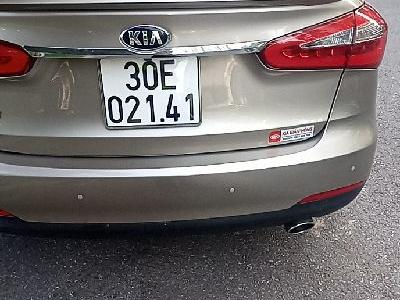car: (99, 55, 202, 131)
